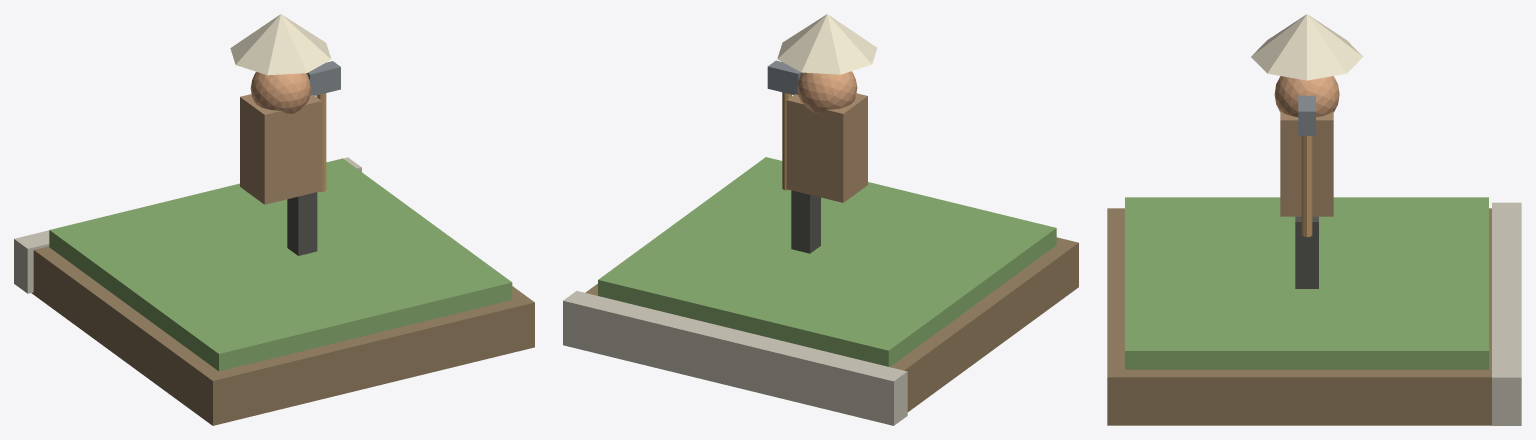
Rendered from 13_TieuPhu.glb.
3 views of the same model, side by side, from view 1: azimuth 30°, elevation 25°; view 2: azimuth 150°, elevation 25°; view 3: azimuth 270°, elevation 25° (orthographic). The views are drawn at different scales.
Parts seen in each view (by area): view 1: grass, soil, body, hat, head, leg, border, toolhead, tool; view 2: grass, border, soil, body, hat, head, leg, toolhead, tool; view 3: grass, soil, border, hat, body, head, leg, tool, toolhead.
Part boxes in pixels (box(x1,y1,x2,y2)): grass: box(49, 158, 512, 371); soil: box(31, 246, 534, 425); body: box(240, 94, 321, 204); hat: box(230, 14, 331, 75); head: box(250, 72, 311, 113); leg: box(287, 192, 317, 255); border: box(14, 157, 361, 293); toolhead: box(306, 61, 340, 95); tool: box(316, 93, 326, 191); grass: box(598, 157, 1056, 366); border: box(563, 291, 907, 425); soil: box(585, 237, 1078, 411); body: box(786, 93, 867, 202); hat: box(777, 14, 877, 74); head: box(797, 71, 857, 112); leg: box(791, 190, 820, 253); toolhead: box(767, 60, 801, 94); tool: box(782, 92, 791, 190); grass: box(1125, 197, 1488, 369); soil: box(1107, 208, 1491, 425); border: box(1492, 202, 1521, 425); hat: box(1251, 14, 1362, 80); body: box(1280, 111, 1333, 216); head: box(1274, 76, 1339, 117); leg: box(1295, 216, 1318, 288); tool: box(1301, 136, 1312, 237); toolhead: box(1298, 95, 1315, 135).
Size of the model in its own units: 1.4 by 1.22 by 1.4.
